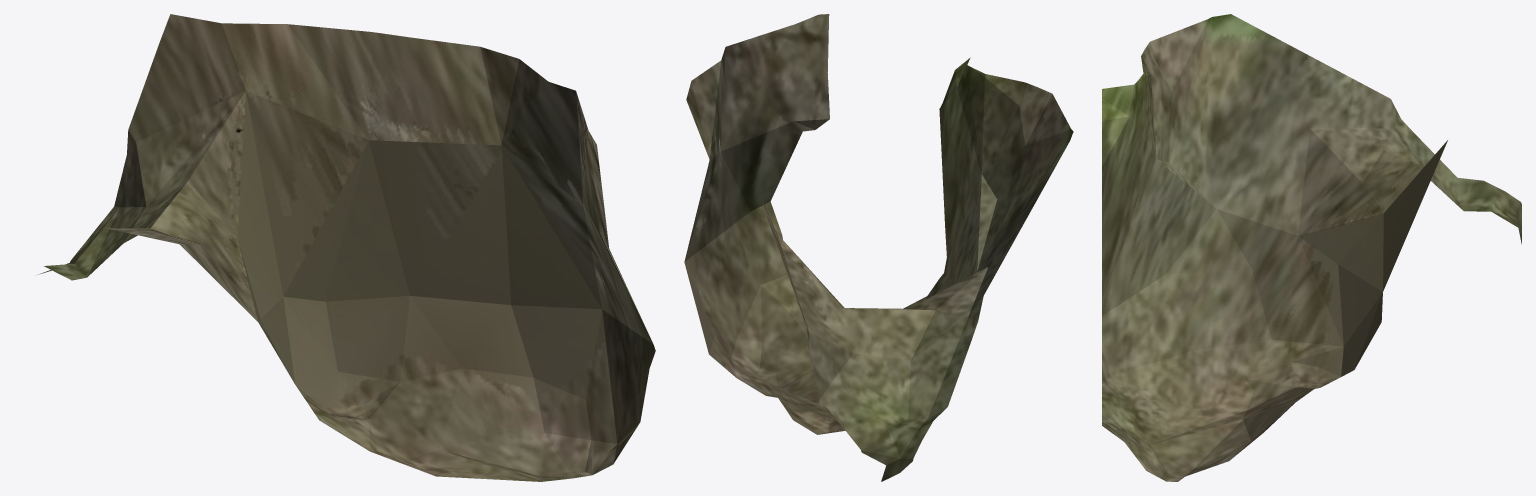
3 renders of one model, left to right at view 1: azimuth 30°, elevation 25°; view 2: azimuth 150°, elevation 25°; view 3: azimuth 270°, elevation 25°, orthographic. The views are drawn at different scales.
Bounding box in the file's own units: 2.91 × 2.44 × 2.95.
4 materials, 4 textured.
